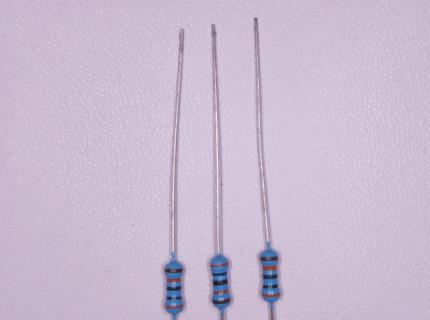Black band: (213, 279, 229, 287), (166, 295, 182, 301), (212, 271, 228, 277), (262, 274, 278, 280), (262, 284, 279, 289), (167, 286, 182, 291)
Brown band: (212, 298, 231, 304), (260, 256, 279, 262), (164, 268, 183, 273)
Orange band: (210, 262, 229, 268), (213, 289, 229, 295), (262, 293, 280, 298), (262, 265, 277, 271), (166, 304, 184, 309), (166, 278, 182, 283)
